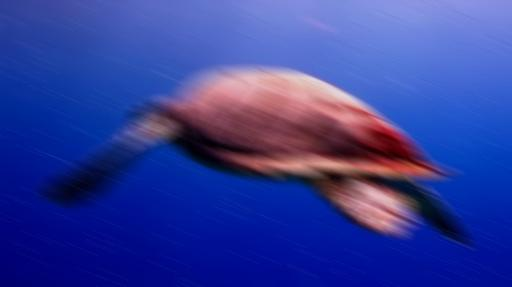Fish: (47, 70, 464, 243)
